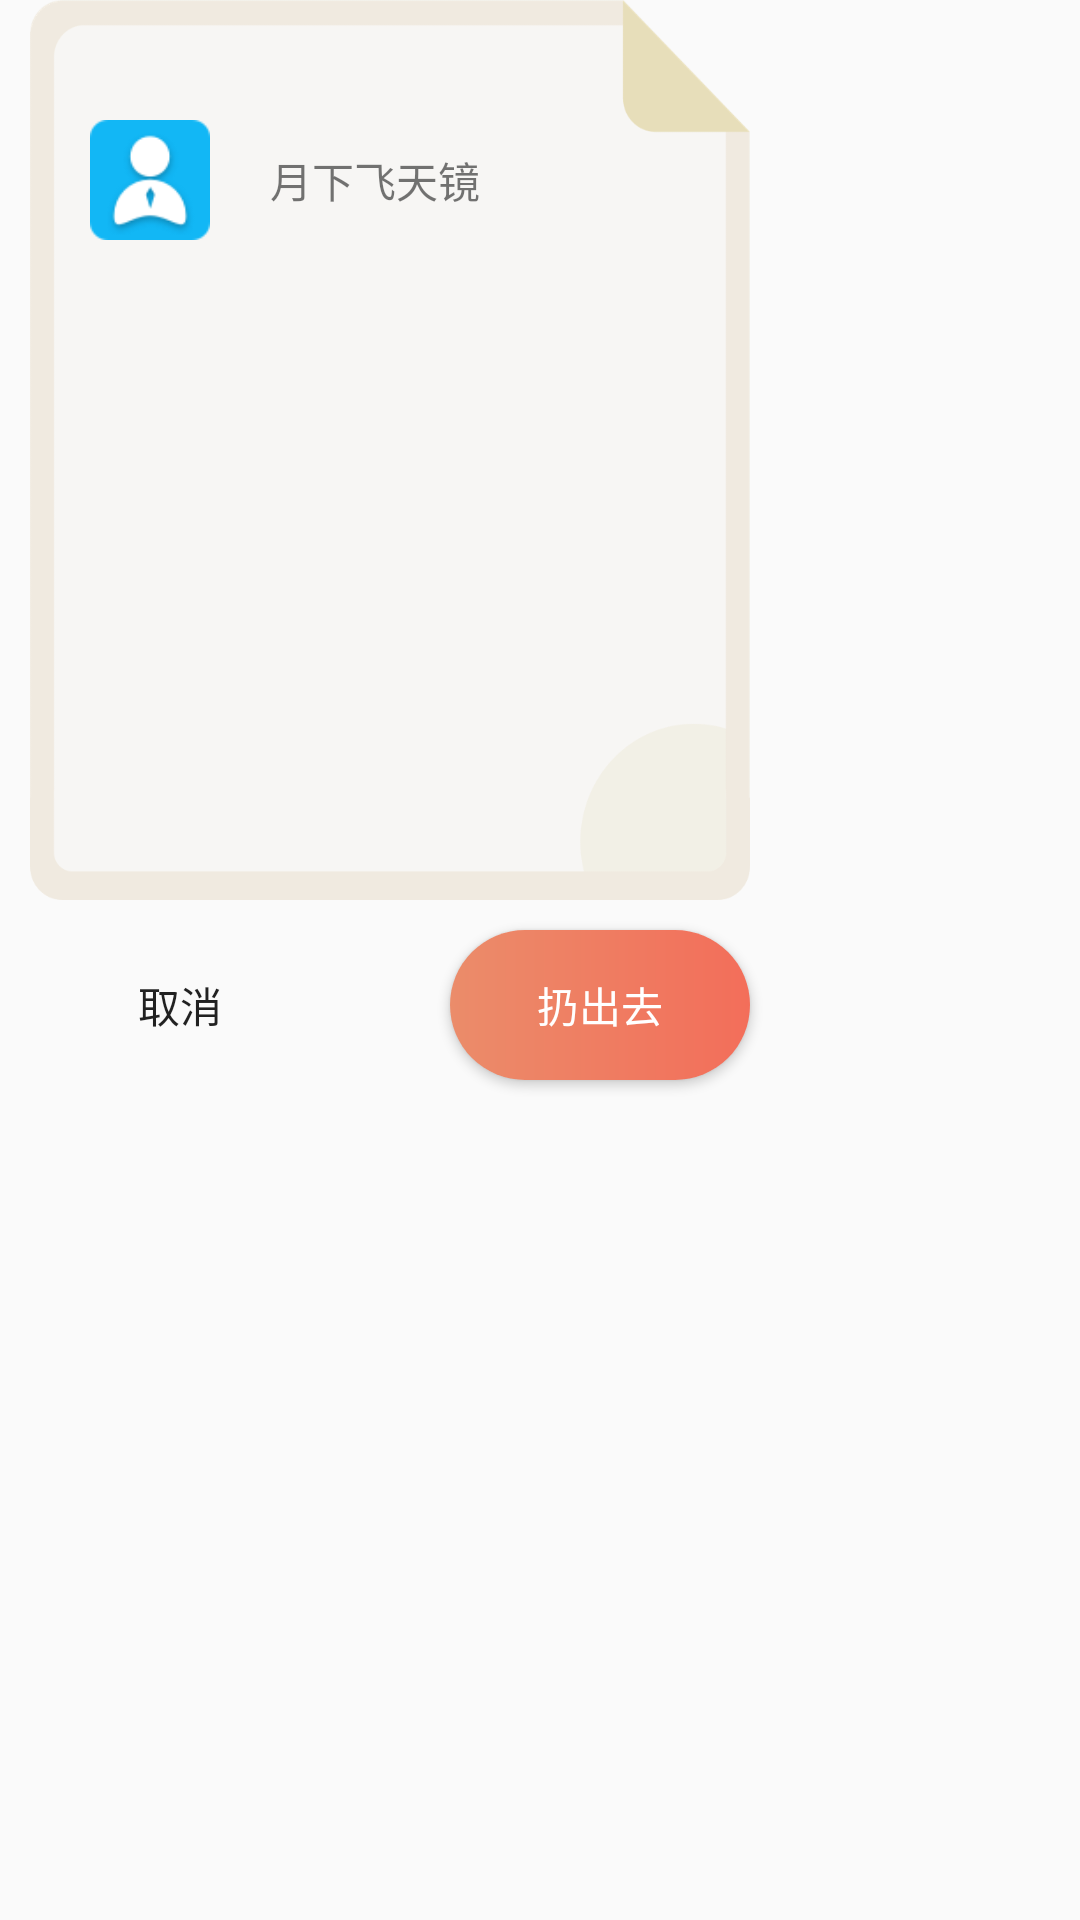

Named icons in this screenshot (1080x1920) and their bounding boxes, (x1, y1, x2, y2):
personal member: (90, 120, 210, 240)
